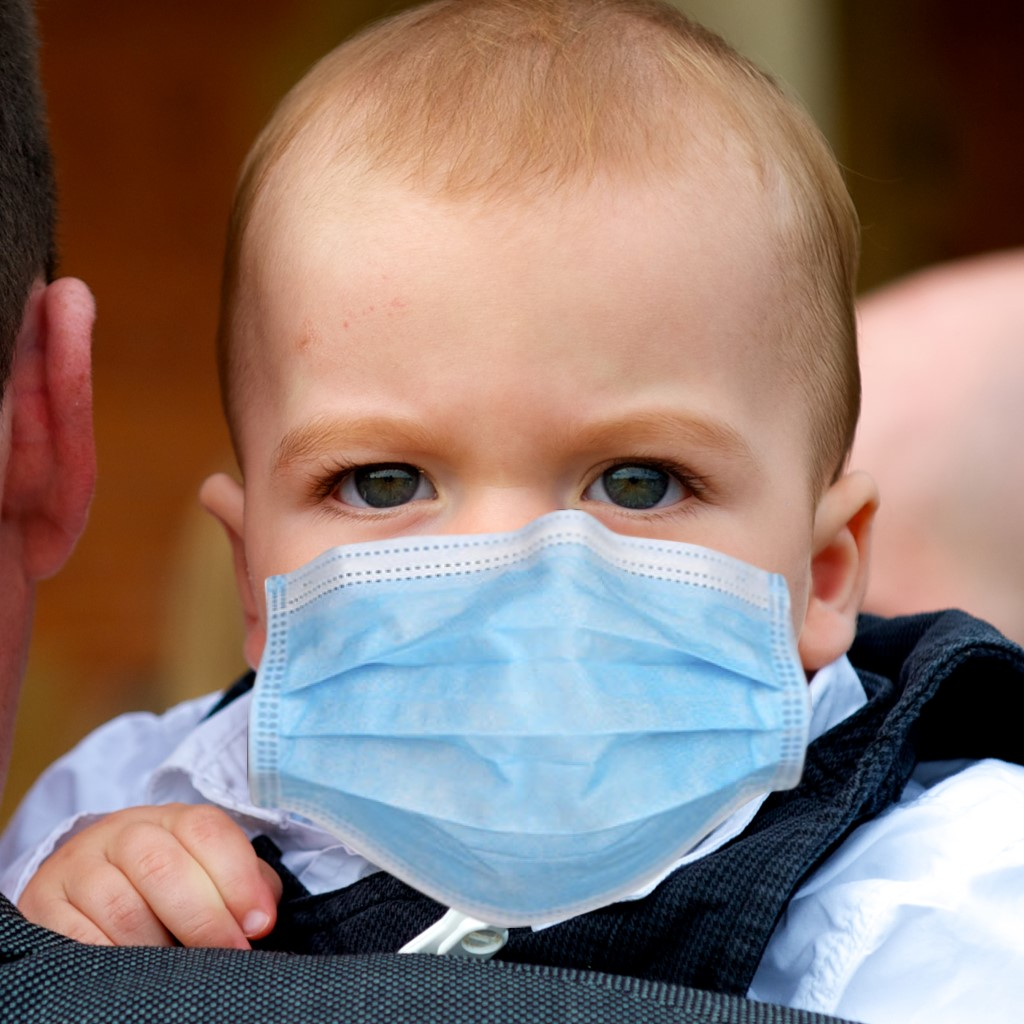con_mascara: (243, 109, 825, 838)
